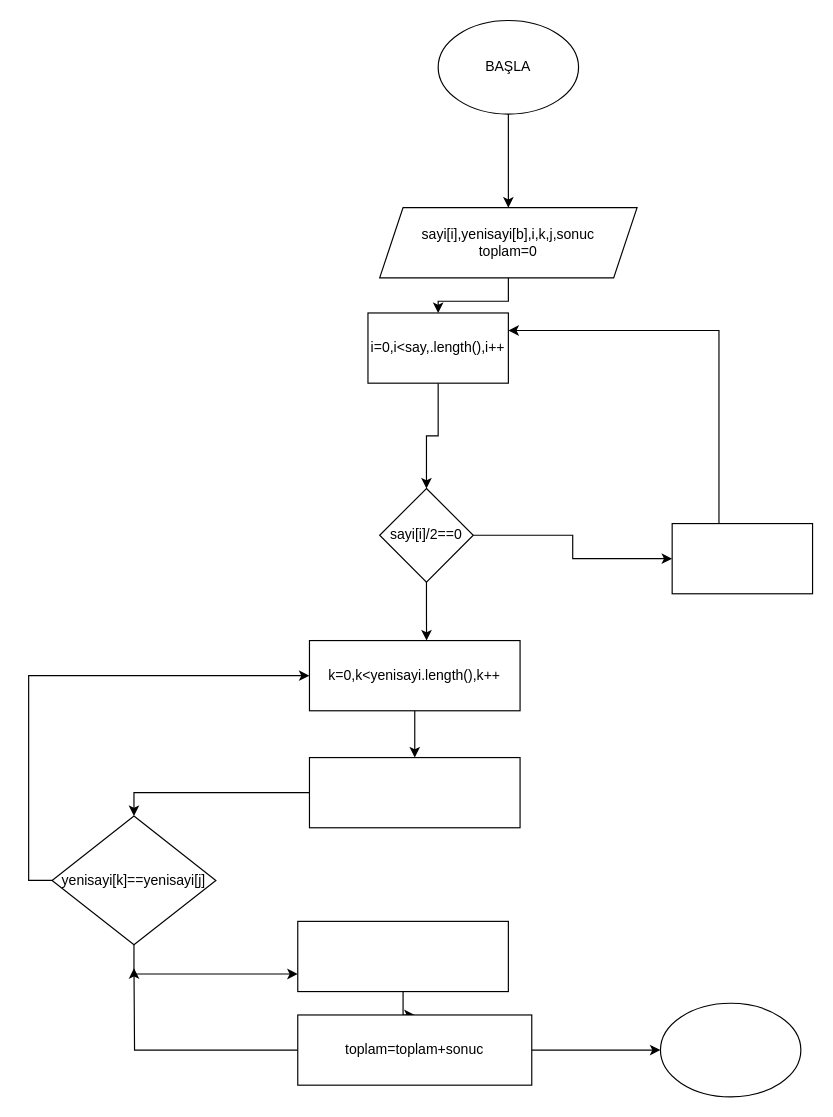
Some shapes in this 833 by 1117 pixel diagram are drawn without their labels. The shapes that lost their labels are listed below. From the top down, each one's box as (x1, y1, x2, y2) in pixels, then its label:
(671, 522, 813, 594): sayi[a]=yenisayi[b]
(308, 756, 520, 828): j=1,j<yenisayi.length(),j++
(297, 920, 508, 992): sonuc=yenisayi[j]*yenisayi[k]
(659, 1002, 801, 1097): BİTİR
